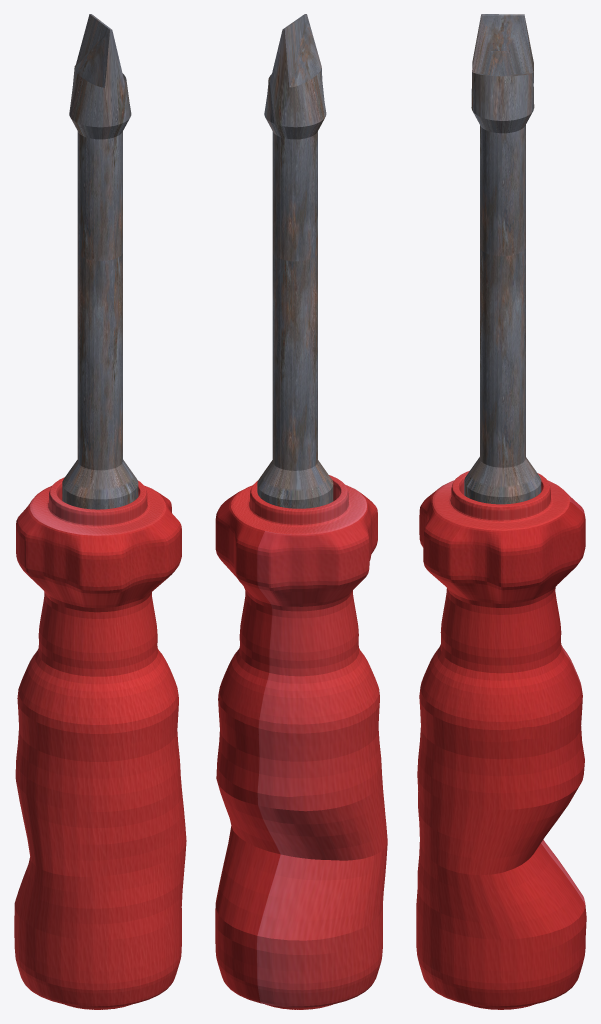
Rendered from Chave_1.fbx.
The picture shows the model from 3 angles, left to right: view 1: azimuth 30°, elevation 25°; view 2: azimuth 150°, elevation 25°; view 3: azimuth 270°, elevation 25°; orthographic projection.
Visible parts, largest first — view 1: Cylinder.012, Cylinder.016; view 2: Cylinder.012, Cylinder.016; view 3: Cylinder.012, Cylinder.016.
Part boxes in pixels (x1,y1,x2,y2): Cylinder.012: (14,477,186,1009); Cylinder.016: (62,14,138,509); Cylinder.012: (215,475,387,1009); Cylinder.016: (257,14,333,508); Cylinder.012: (416,470,586,1009); Cylinder.016: (464,14,541,504).
Size of the model in its own units: 189 by 1190 by 188.
2 materials, 2 textured.
